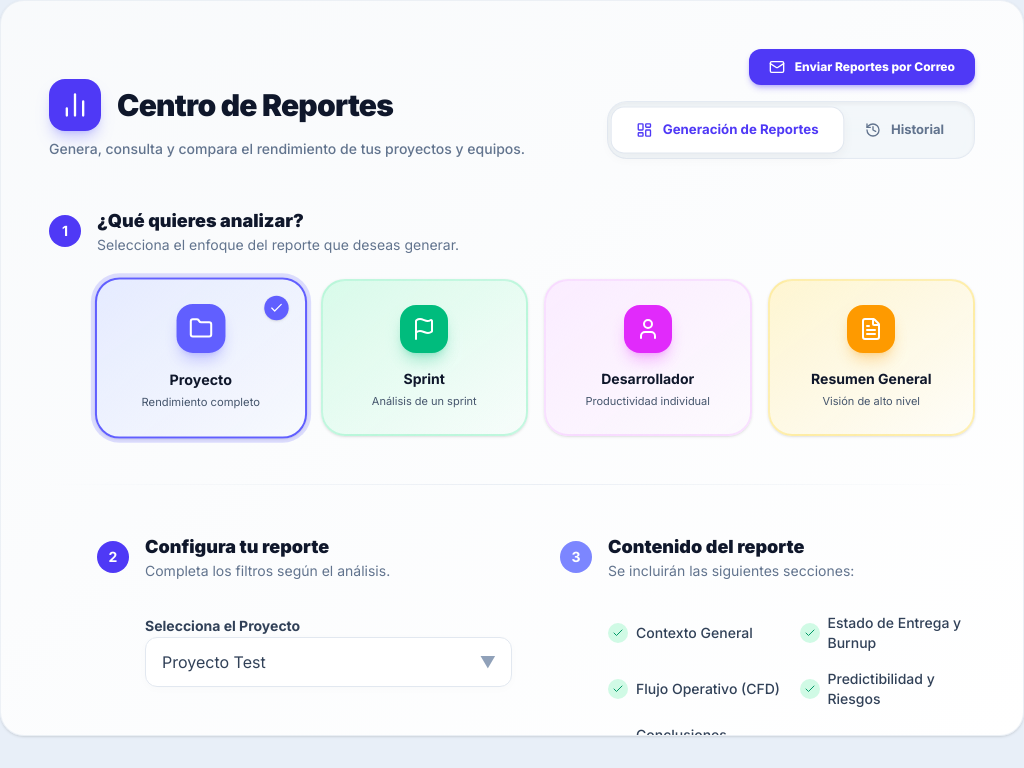
CentroReportesView › filters general projects correctly
The width and height of the screenshot is (1024, 768).
# Cambiar a "Resumen General"
Click the heading "Resumen General": (871,378) x1=811 y1=368 x2=931 y2=388
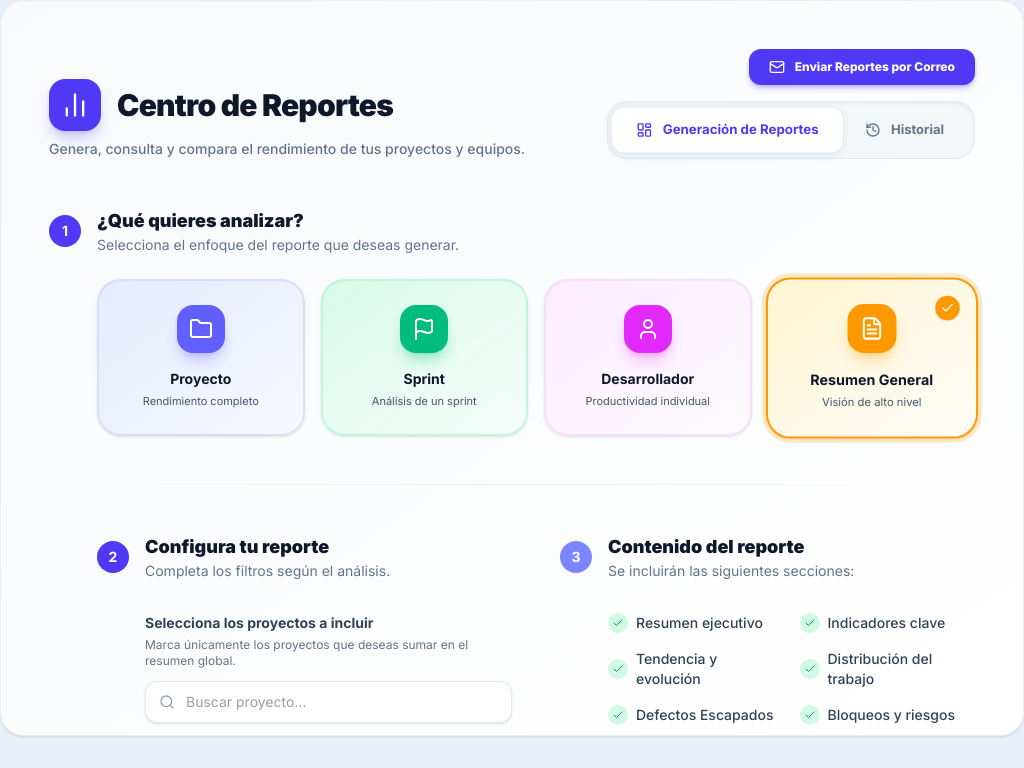
In the field with placeholder "Buscar proyecto...": (328,702) x1=145 y1=681 x2=512 y2=723, type "Inexistente"
(page scrolled)
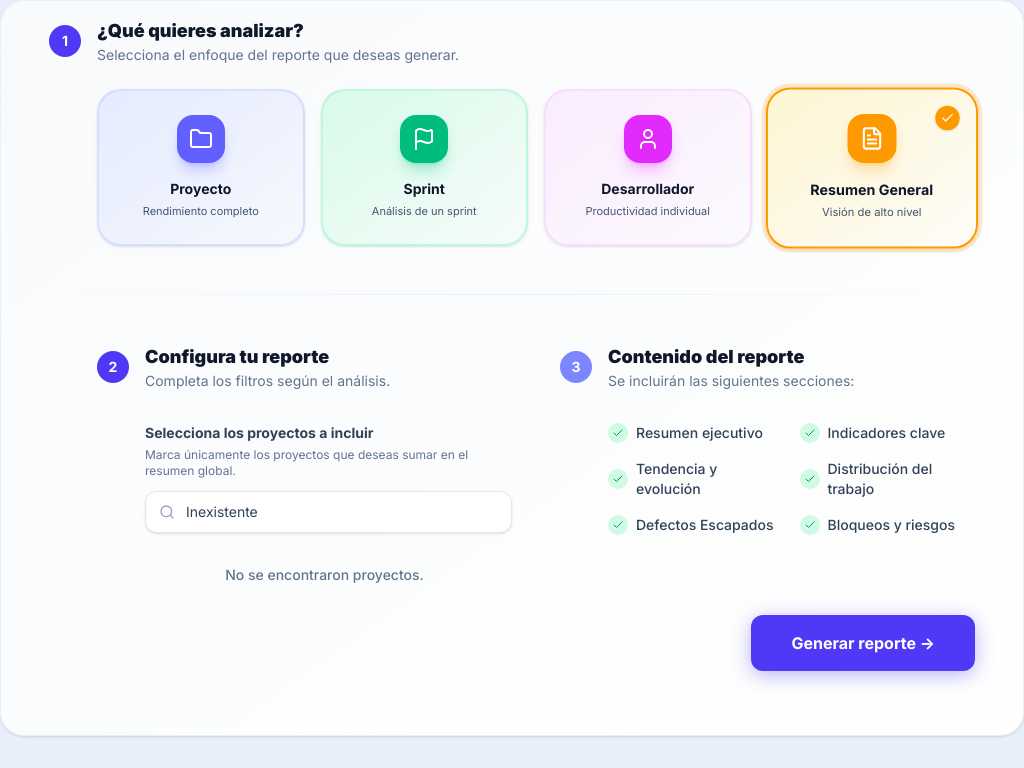
expect the text "No se encontraron proyectos." is shown: met, box x1=225 y1=566 x2=424 y2=583
